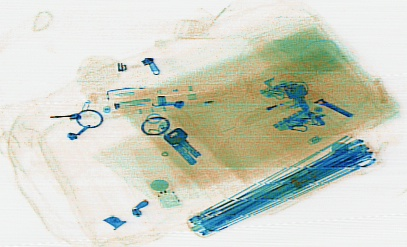lighter: (240, 88, 306, 124)
